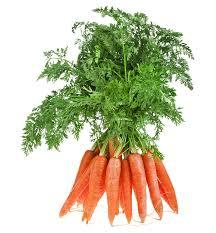Organic: (33, 21, 216, 233)
